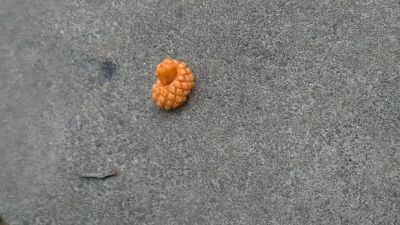eggs: (151, 59, 195, 112)
